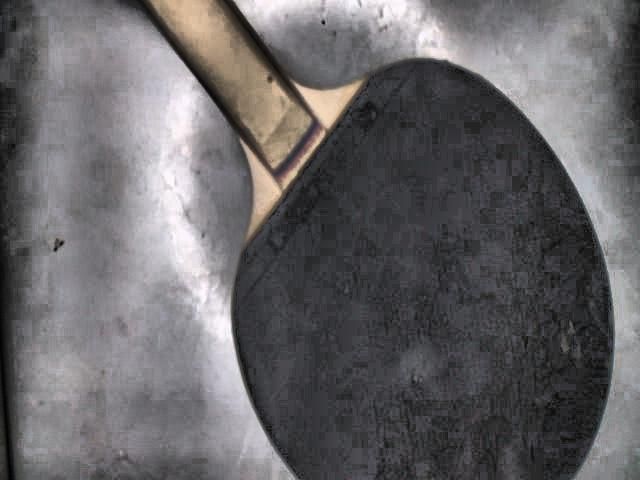Almennt: (135, 0, 615, 480)
